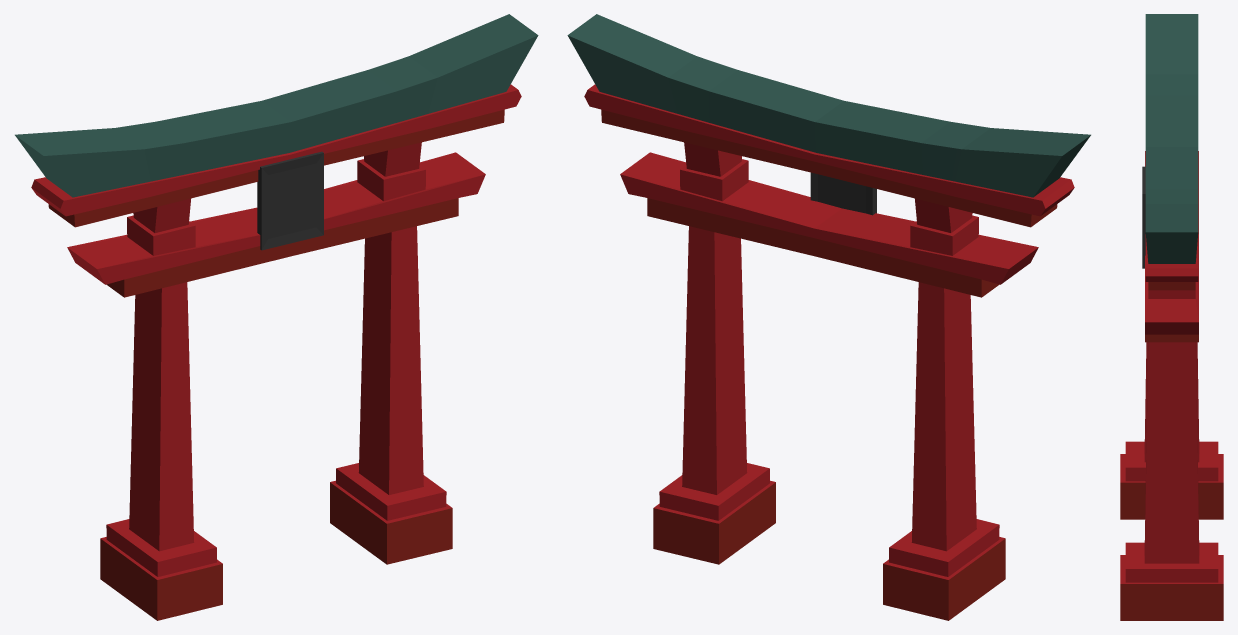
File: templo.fbx
3 renders of one model, left to right at view 1: azimuth 30°, elevation 25°; view 2: azimuth 150°, elevation 25°; view 3: azimuth 270°, elevation 25°, orthographic. The views are drawn at different scales.
Visible parts, largest first — view 1: Cube; view 2: Cube; view 3: Cube.
Boxes of the visible parts, x1,y1,x2,y2 form: Cube: (15,14,538,620); Cube: (567,14,1090,620); Cube: (1120,14,1223,620).
Bounding box in the file's own units: 434 × 401 × 86.67.
